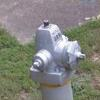Hydrant: (22, 8, 87, 100)
